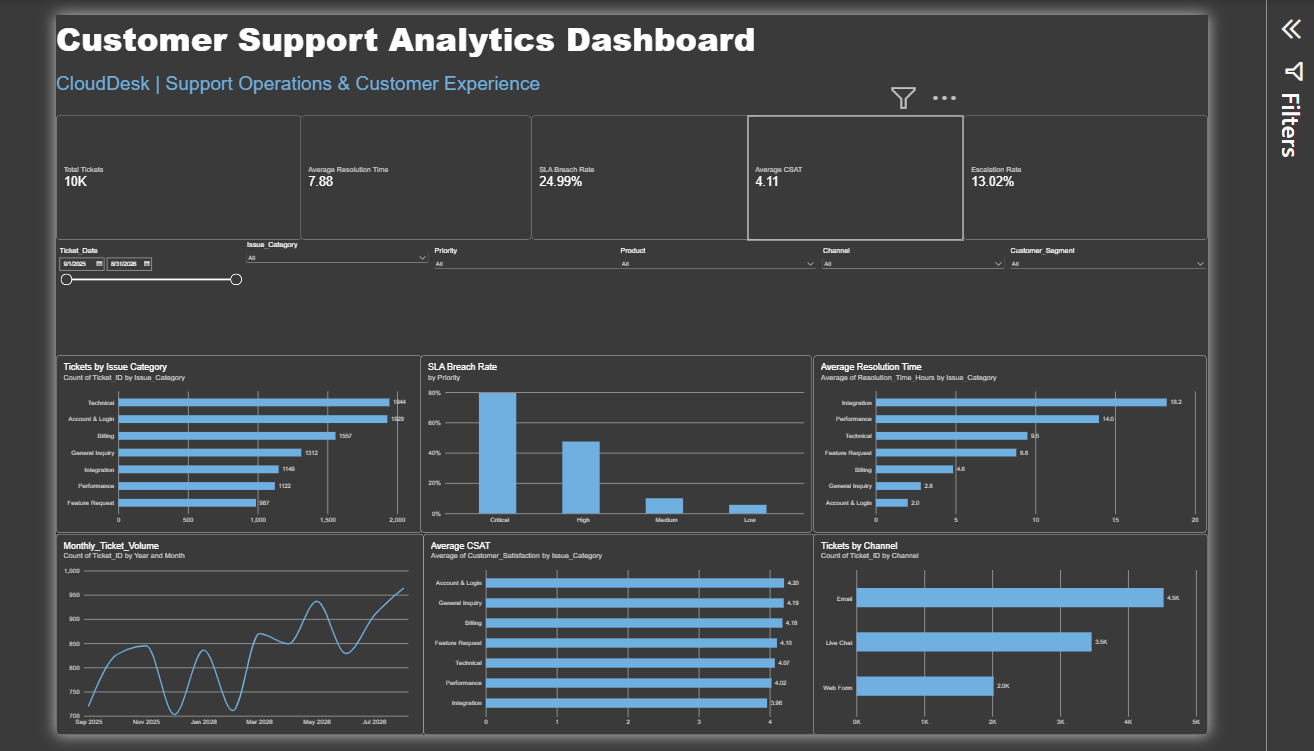

This screenshot's page, from the dashboard's own definition file:
{"tool":"powerbi","page":{"name":"Page 1","canvas":[2560,1600],"ordinal":0},"visuals":[{"type":"cardVisual","fields":{"Data":["CountNonNull(SupportTickets.Ticket_ID)"]},"box":[0,223.3,546.7,276.7],"z":0},{"type":"cardVisual","fields":{"Data":["Avg(SupportTickets.Resolution_Time_Hours)"]},"box":[543.3,223.3,513.3,276.7],"z":1000},{"type":"cardVisual","fields":{"Data":["SupportTickets.SLA Breach Rate"]},"box":[1056.7,223.3,510,276.7],"z":2000},{"type":"cardVisual","fields":{"Data":["Avg(SupportTickets.Customer_Satisfaction)"]},"box":[1536.7,223.3,480,276.7],"z":3000},{"type":"cardVisual","fields":{"Data":["SupportTickets.Escalation Rate"]},"box":[2016.7,223.3,543.3,276.7],"z":4000},{"type":"clusteredBarChart","title":"Tickets by Issue Category","fields":{"Category":["SupportTickets.Issue_Category"],"Y":["CountNonNull(SupportTickets.Ticket_ID)"]},"box":[0,756.7,813.3,393.3],"z":5000},{"type":"columnChart","fields":{"Category":["SupportTickets.Priority"],"Y":["SupportTickets.SLA Breach Rate"]},"box":[808.5,754.2,872.5,396.3],"z":6000},{"type":"clusteredBarChart","title":"Average Resolution Time","fields":{"Category":["SupportTickets.Issue_Category"],"Y":["Avg(SupportTickets.Resolution_Time_Hours)"]},"box":[1683.3,756.7,873.3,393.3],"z":7000},{"type":"lineChart","title":"Monthly_Ticket_Volume","fields":{"Category":["SupportTickets.Ticket_Date.Variation.Date Hierarchy.Year","SupportTickets.Ticket_Date.Variation.Date Hierarchy.Month"],"Y":["CountNonNull(SupportTickets.Ticket_ID)"]},"box":[0,1153.3,816.7,446.7],"z":8000},{"type":"clusteredBarChart","title":"Average CSAT","fields":{"Category":["SupportTickets.Issue_Category"],"Y":["Avg(SupportTickets.Customer_Satisfaction)"]},"box":[816.7,1153.3,870,446.7],"z":9000},{"type":"clusteredBarChart","title":"Tickets by Channel","fields":{"Category":["SupportTickets.Channel"],"Y":["CountNonNull(SupportTickets.Ticket_ID)"]},"box":[1683.3,1153.3,876.7,446.7],"z":10000},{"type":"slicer","fields":{"Values":["SupportTickets.Ticket_Date"]},"box":[0,514.5,415.5,239.7],"z":11000},{"type":"slicer","fields":{"Values":["SupportTickets.Issue_Category"]},"box":[416.7,500,416,256],"z":12000},{"type":"slicer","fields":{"Values":["SupportTickets.Priority"]},"box":[830.9,511.3,450.6,246.1],"z":13000},{"type":"slicer","fields":{"Values":["SupportTickets.Product"]},"box":[1281.5,511.3,415.5,255.7],"z":14000},{"type":"slicer","fields":{"Values":["SupportTickets.Channel"]},"box":[1697,511.3,415.5,242.9],"z":15000},{"type":"slicer","fields":{"Values":["SupportTickets.Customer_Segment"]},"box":[2112.4,511.3,447.4,242.9],"z":16000},{"type":"textbox","box":[0,0,1696,128],"z":16001},{"type":"textbox","box":[0,126.7,1090,96.7],"z":16002}]}

Visuals, with their boxes on the page's 2560x1600 design canvas (x1, y1, x2, y2). These are canvas units, not pixel positions in the 1314x751 screenshot, which may show the page scaled, cropped or inside an application window:
cardVisual - CountNonNull(SupportTickets.Ticket_ID): [x1=0, y1=223, x2=547, y2=500]
cardVisual - Avg(SupportTickets.Resolution_Time_Hours): [x1=543, y1=223, x2=1057, y2=500]
cardVisual - SupportTickets.SLA Breach Rate: [x1=1057, y1=223, x2=1567, y2=500]
cardVisual - Avg(SupportTickets.Customer_Satisfaction): [x1=1537, y1=223, x2=2017, y2=500]
cardVisual - SupportTickets.Escalation Rate: [x1=2017, y1=223, x2=2560, y2=500]
"Tickets by Issue Category" clusteredBarChart: [x1=0, y1=757, x2=813, y2=1150]
columnChart - SupportTickets.Priority x SupportTickets.SLA Breach Rate: [x1=808, y1=754, x2=1681, y2=1150]
"Average Resolution Time" clusteredBarChart: [x1=1683, y1=757, x2=2557, y2=1150]
"Monthly_Ticket_Volume" lineChart: [x1=0, y1=1153, x2=817, y2=1600]
"Average CSAT" clusteredBarChart: [x1=817, y1=1153, x2=1687, y2=1600]
"Tickets by Channel" clusteredBarChart: [x1=1683, y1=1153, x2=2560, y2=1600]
slicer - SupportTickets.Ticket_Date: [x1=0, y1=514, x2=416, y2=754]
slicer - SupportTickets.Issue_Category: [x1=417, y1=500, x2=833, y2=756]
slicer - SupportTickets.Priority: [x1=831, y1=511, x2=1282, y2=757]
slicer - SupportTickets.Product: [x1=1282, y1=511, x2=1697, y2=767]
slicer - SupportTickets.Channel: [x1=1697, y1=511, x2=2112, y2=754]
slicer - SupportTickets.Customer_Segment: [x1=2112, y1=511, x2=2560, y2=754]
textbox: [x1=0, y1=0, x2=1696, y2=128]
textbox: [x1=0, y1=127, x2=1090, y2=223]
